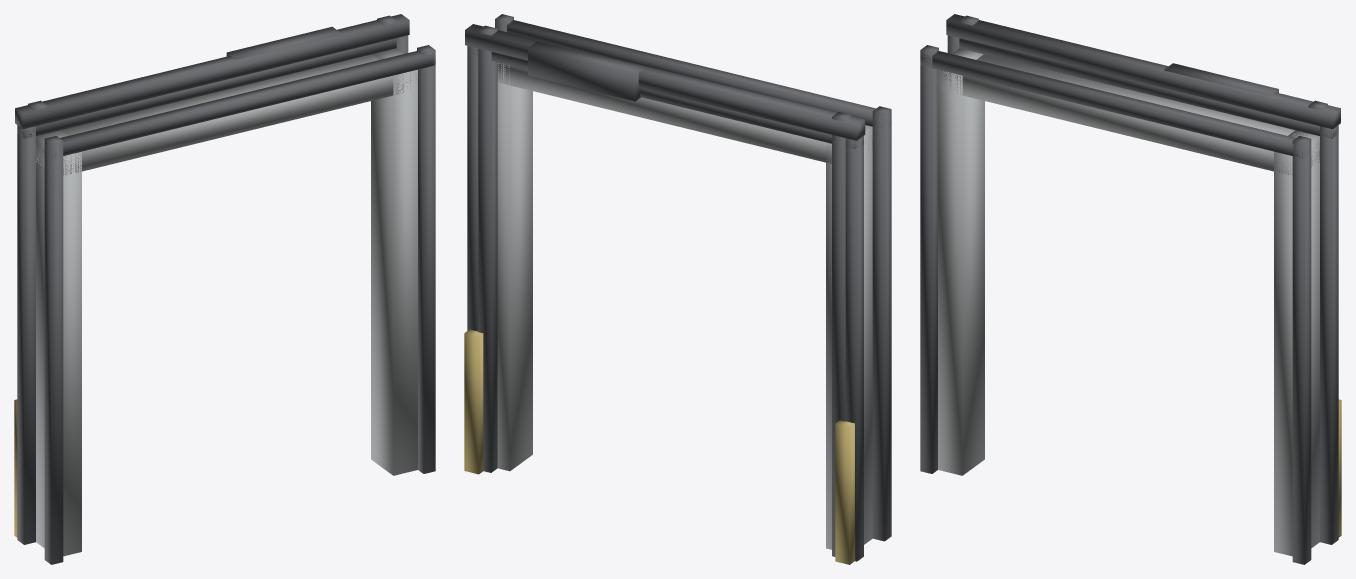
Rendered from bay_opening_loading_bay_w240_h280_d30.glb.
3 renders of one model, left to right at view 1: azimuth 30°, elevation 25°; view 2: azimuth 150°, elevation 25°; view 3: azimuth 330°, elevation 25°, orthographic.
Visible parts, largest first — view 1: world; view 2: world; view 3: world.
Part boxes in pixels (x1,y1,x2,y2): world: [14, 14, 435, 564]; world: [464, 14, 891, 564]; world: [920, 14, 1341, 564].
Size of the model in its own units: 2.98 by 3.19 by 0.522.
